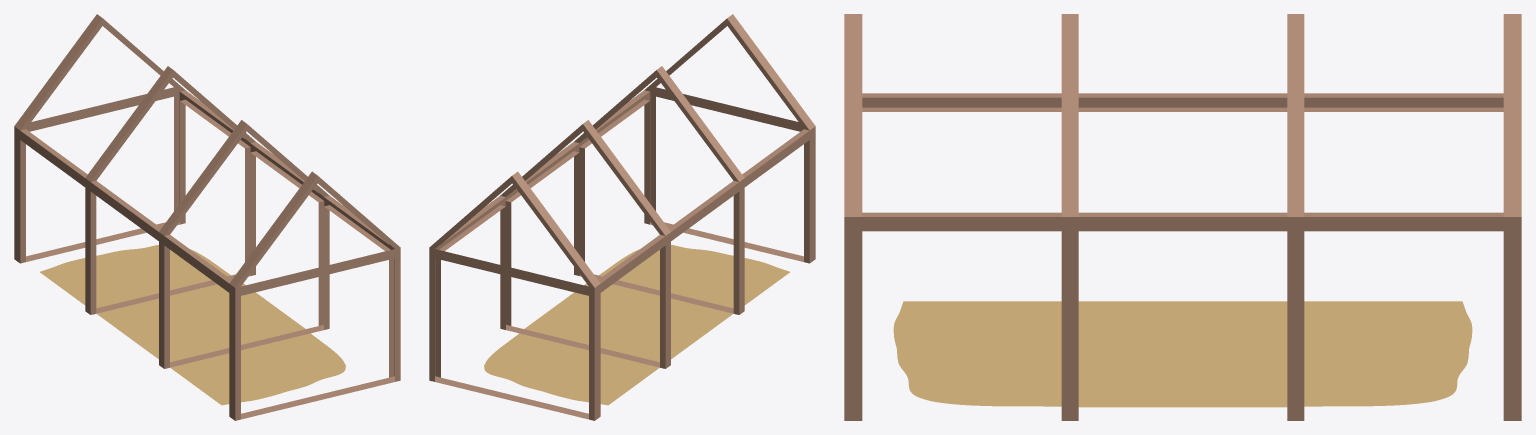
File: Gewächshaus.fbx
The picture shows the model from 3 angles, left to right: view 1: azimuth 30°, elevation 25°; view 2: azimuth 150°, elevation 25°; view 3: azimuth 270°, elevation 25°; orthographic projection. The views are drawn at different scales.
Parts seen in each view (by area): view 1: Cube.003; view 2: Cube.003; view 3: Cube.003.
Part boxes in pixels (bbox=[...]): Cube.003: bbox=[14, 14, 400, 420]; Cube.003: bbox=[429, 14, 815, 420]; Cube.003: bbox=[844, 14, 1521, 420].
Bounding box in the file's own units: 1360 × 1768 × 3146.
